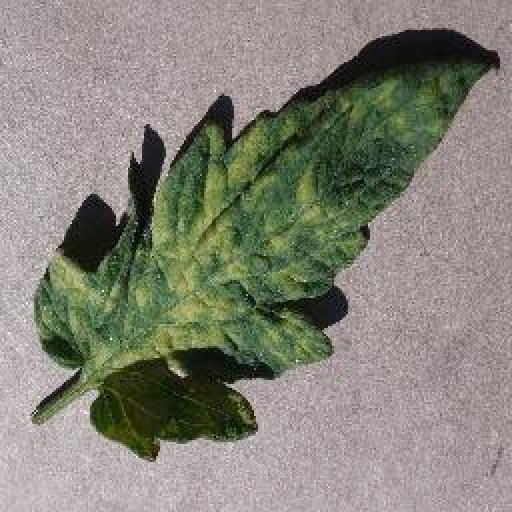disease_tomato: (32, 47, 498, 461)
